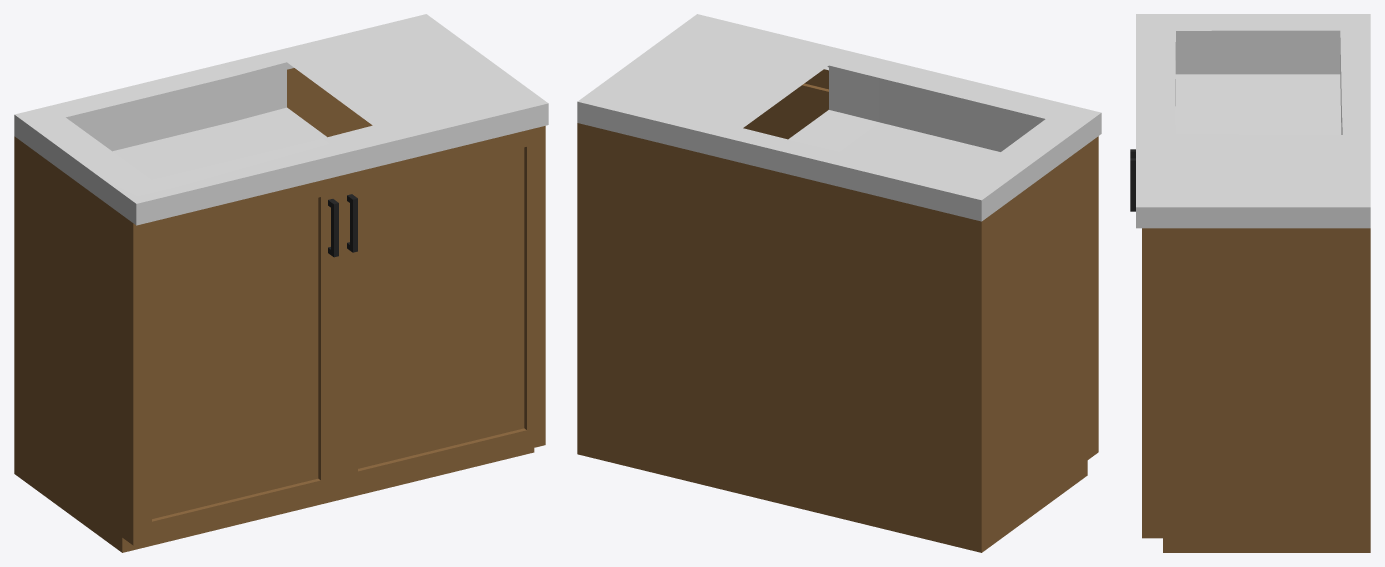
Rendered from cabinet.fbx.
3 renders of one model, left to right at view 1: azimuth 30°, elevation 25°; view 2: azimuth 150°, elevation 25°; view 3: azimuth 270°, elevation 25°, orthographic. The views are drawn at different scales.
Parts seen in each view (by area): view 1: Cabinet.005; view 2: Cabinet.005; view 3: Cabinet.005.
Part boxes in pixels (x1=…): Cabinet.005: x1=14, y1=14, x2=548, y2=552; Cabinet.005: x1=577, y1=14, x2=1101, y2=552; Cabinet.005: x1=1130, y1=14, x2=1370, y2=552.
Size of the model in its own units: 302 by 252 by 159.
